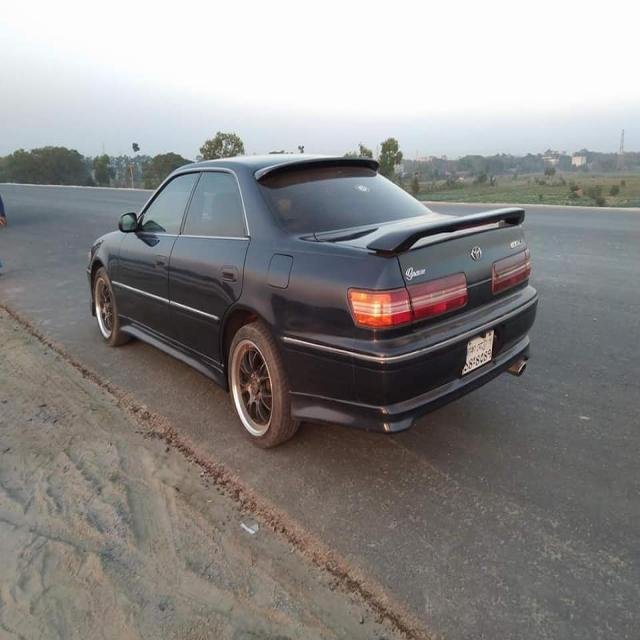car: (54, 131, 552, 461)
